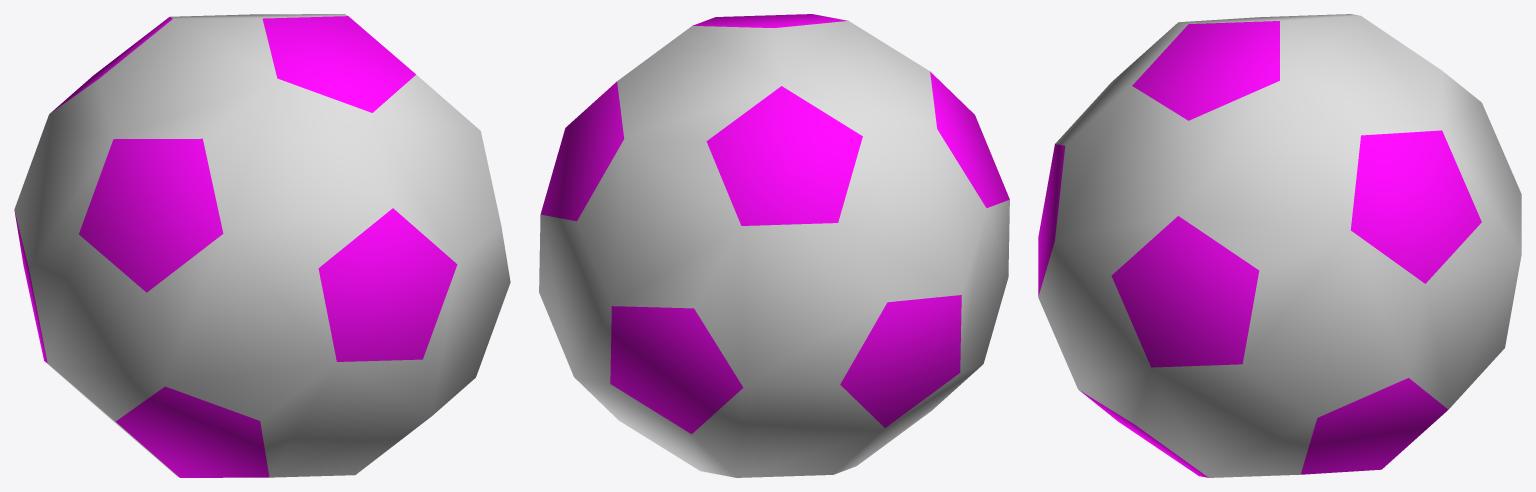
Rendered from pinkBall.glb.
3 renders of one model, left to right at view 1: azimuth 30°, elevation 25°; view 2: azimuth 150°, elevation 25°; view 3: azimuth 270°, elevation 25°, orthographic. The views are drawn at different scales.
Visible parts, largest first — view 1: pinkBall; view 2: pinkBall; view 3: pinkBall.
Part boxes in pixels (left/top/right/bottom): pinkBall: left=14, top=14, right=510, bottom=477; pinkBall: left=539, top=14, right=1009, bottom=477; pinkBall: left=1038, top=14, right=1521, bottom=477.
Size of what is drawn, in the model's own units: 1.97 by 2 by 1.95.
